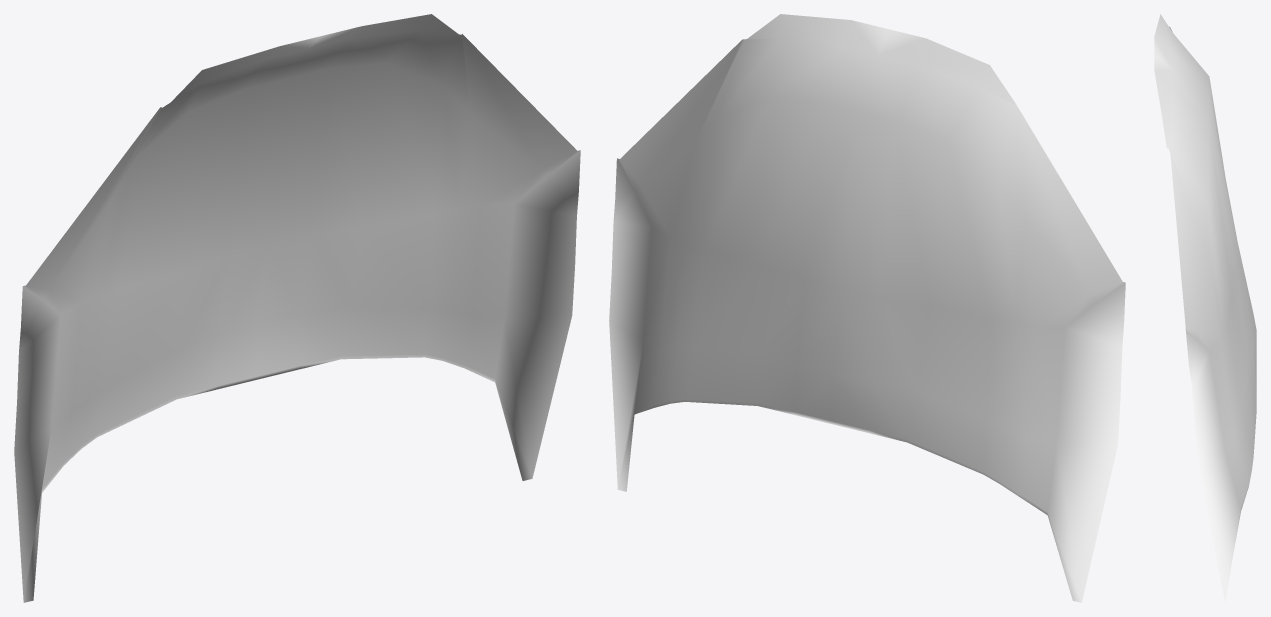
Rendered from Car 1A Hood.fbx.
3 renders of one model, left to right at view 1: azimuth 30°, elevation 25°; view 2: azimuth 150°, elevation 25°; view 3: azimuth 270°, elevation 25°, orthographic. The views are drawn at different scales.
Parts seen in each view (by area): view 1: 1AU Hood (3, Baked); view 2: 1AU Hood (3, Baked); view 3: 1AU Hood (3, Baked).
Boxes of the visible parts, left/top/right/bottom form: 1AU Hood (3, Baked): left=14, top=14, right=580, bottom=602; 1AU Hood (3, Baked): left=609, top=14, right=1125, bottom=602; 1AU Hood (3, Baked): left=1154, top=14, right=1256, bottom=602.
Bounding box in the file's own units: 170 × 156 × 32.5.
1 material, 1 textured.
